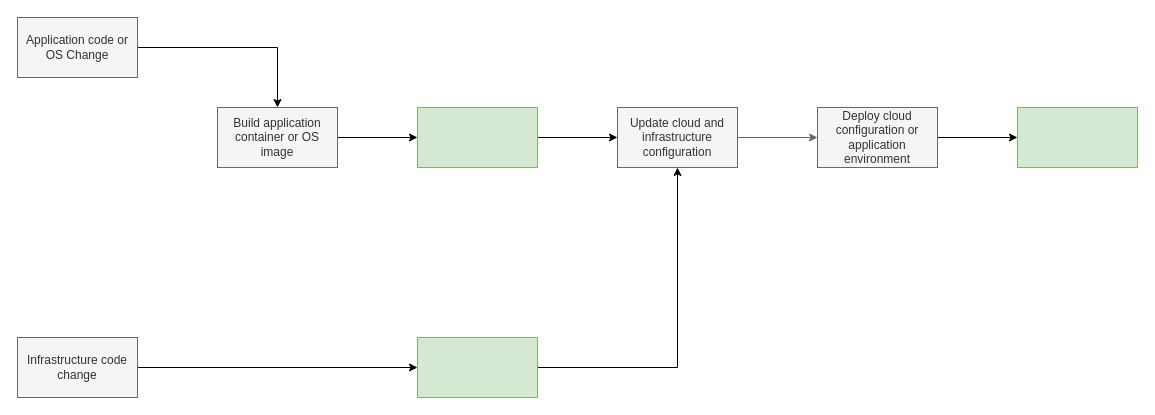
Image size: 1155x415. Some labels were removed from this diagram. The shapes that lost their labels are listed below. From the top down, each one's centre as x and y in pixels, then its label:
[477,137]: AMI or containder image scanning
[1077,137]: Post-deployment compliance scanning
[477,367]: Infrastructure as code compliance scanning
